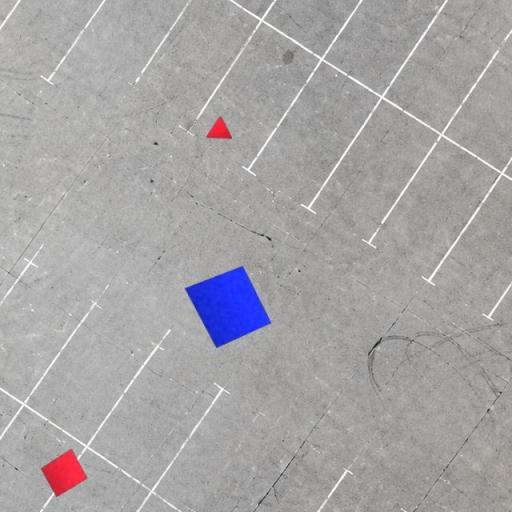BLUE_SQUARE: (184, 265, 272, 349)
RED_SQUARE: (40, 448, 88, 498)
